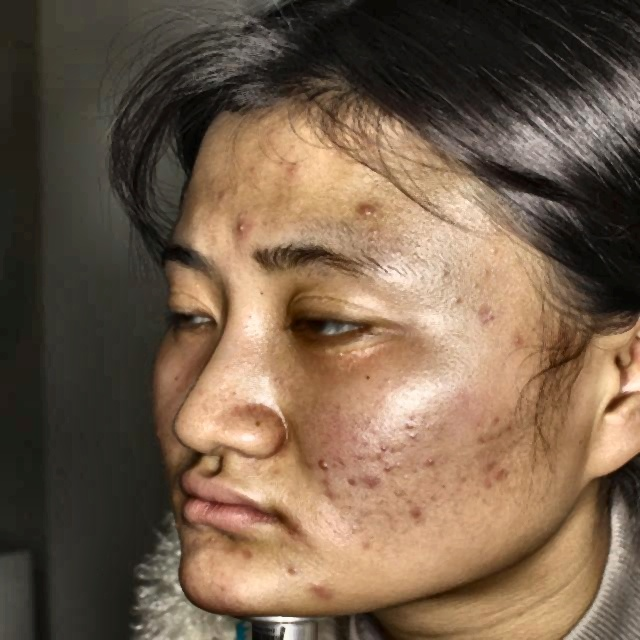pustule: (280, 150, 316, 187), (483, 454, 509, 486), (314, 578, 342, 606), (208, 182, 246, 202), (317, 451, 341, 479), (358, 197, 383, 221), (404, 498, 426, 518), (358, 464, 376, 486), (292, 512, 308, 534), (237, 216, 248, 236)
